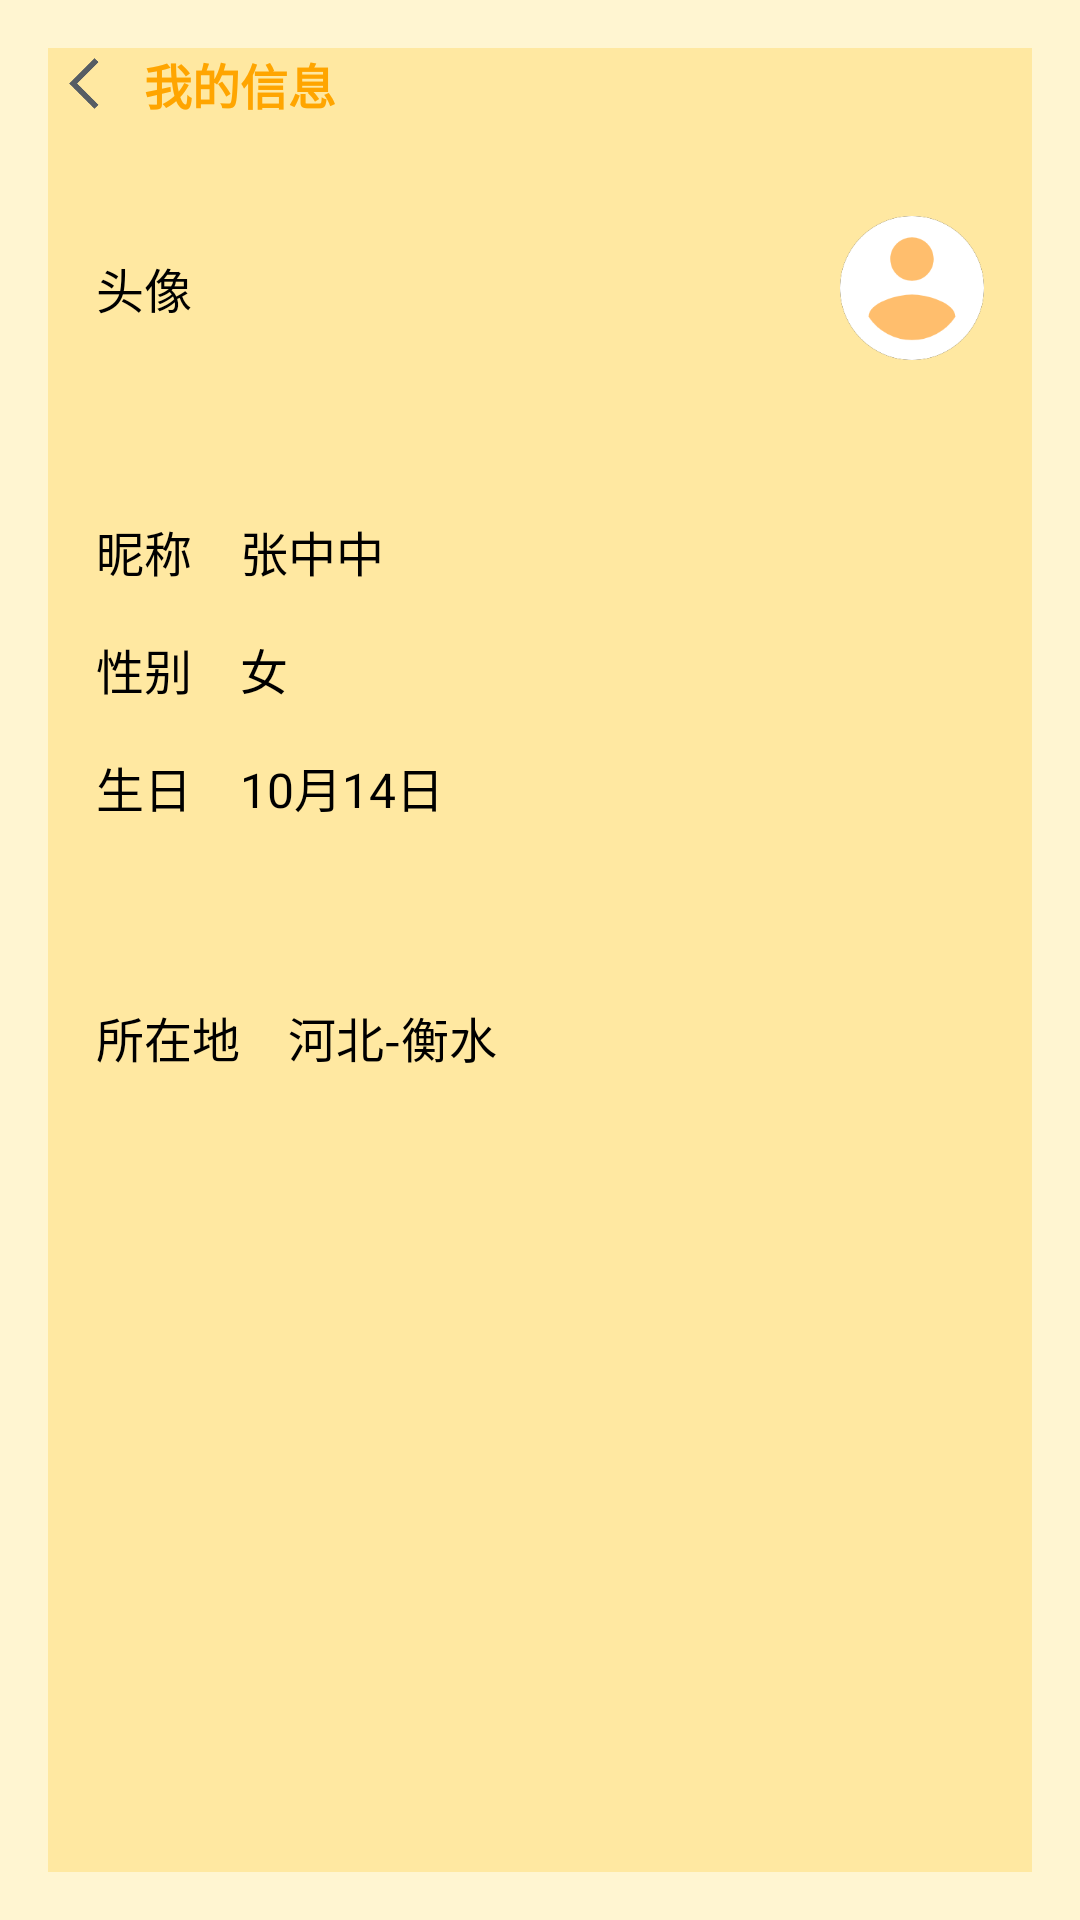

Icon click points for this 1080x1920 phone screenshot, format [x,y]:
Back: [83,83]
user: [912,288]
